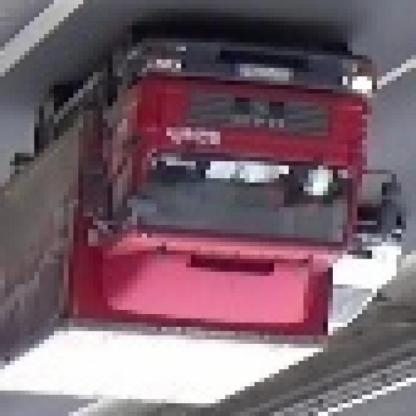truck: (6, 39, 407, 413)
